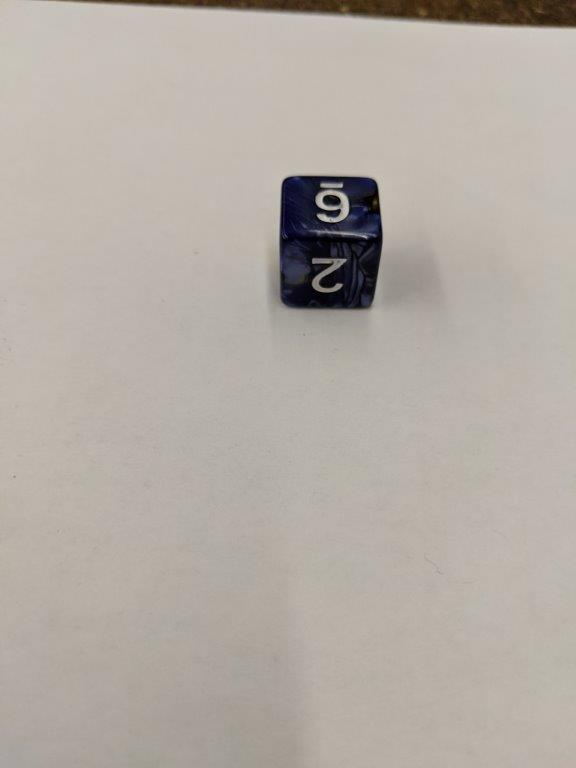d6-6: (278, 175, 383, 312)
